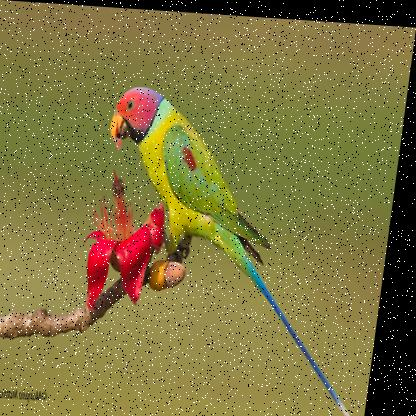Burung: (84, 81, 403, 415)
